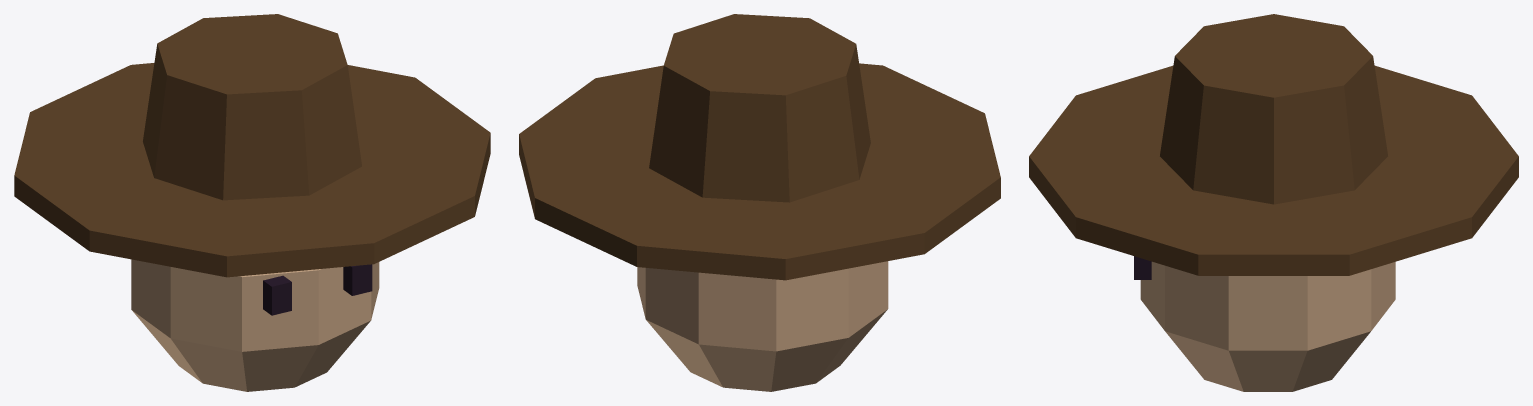
File: head_mags.gltf
3 renders of one model, left to right at view 1: azimuth 30°, elevation 25°; view 2: azimuth 150°, elevation 25°; view 3: azimuth 270°, elevation 25°, orthographic.
Visible parts, largest first — view 1: brim, crown, skin, eyes; view 2: brim, crown, skin; view 3: brim, crown, skin.
Part boxes in pixels (x1=…): brim: x1=14, y1=63, x2=490, y2=277; crown: x1=143, y1=14, x2=361, y2=200; skin: x1=131, y1=259, x2=379, y2=391; eyes: x1=263, y1=264, x2=372, y2=315; brim: x1=519, y1=63, x2=1000, y2=280; crown: x1=649, y1=14, x2=870, y2=202; skin: x1=637, y1=261, x2=888, y2=391; brim: x1=1029, y1=65, x2=1518, y2=275; crown: x1=1160, y1=14, x2=1387, y2=204; skin: x1=1140, y1=261, x2=1395, y2=391.
Bounding box in the file's own units: 0.7988 × 0.62 × 0.84.
